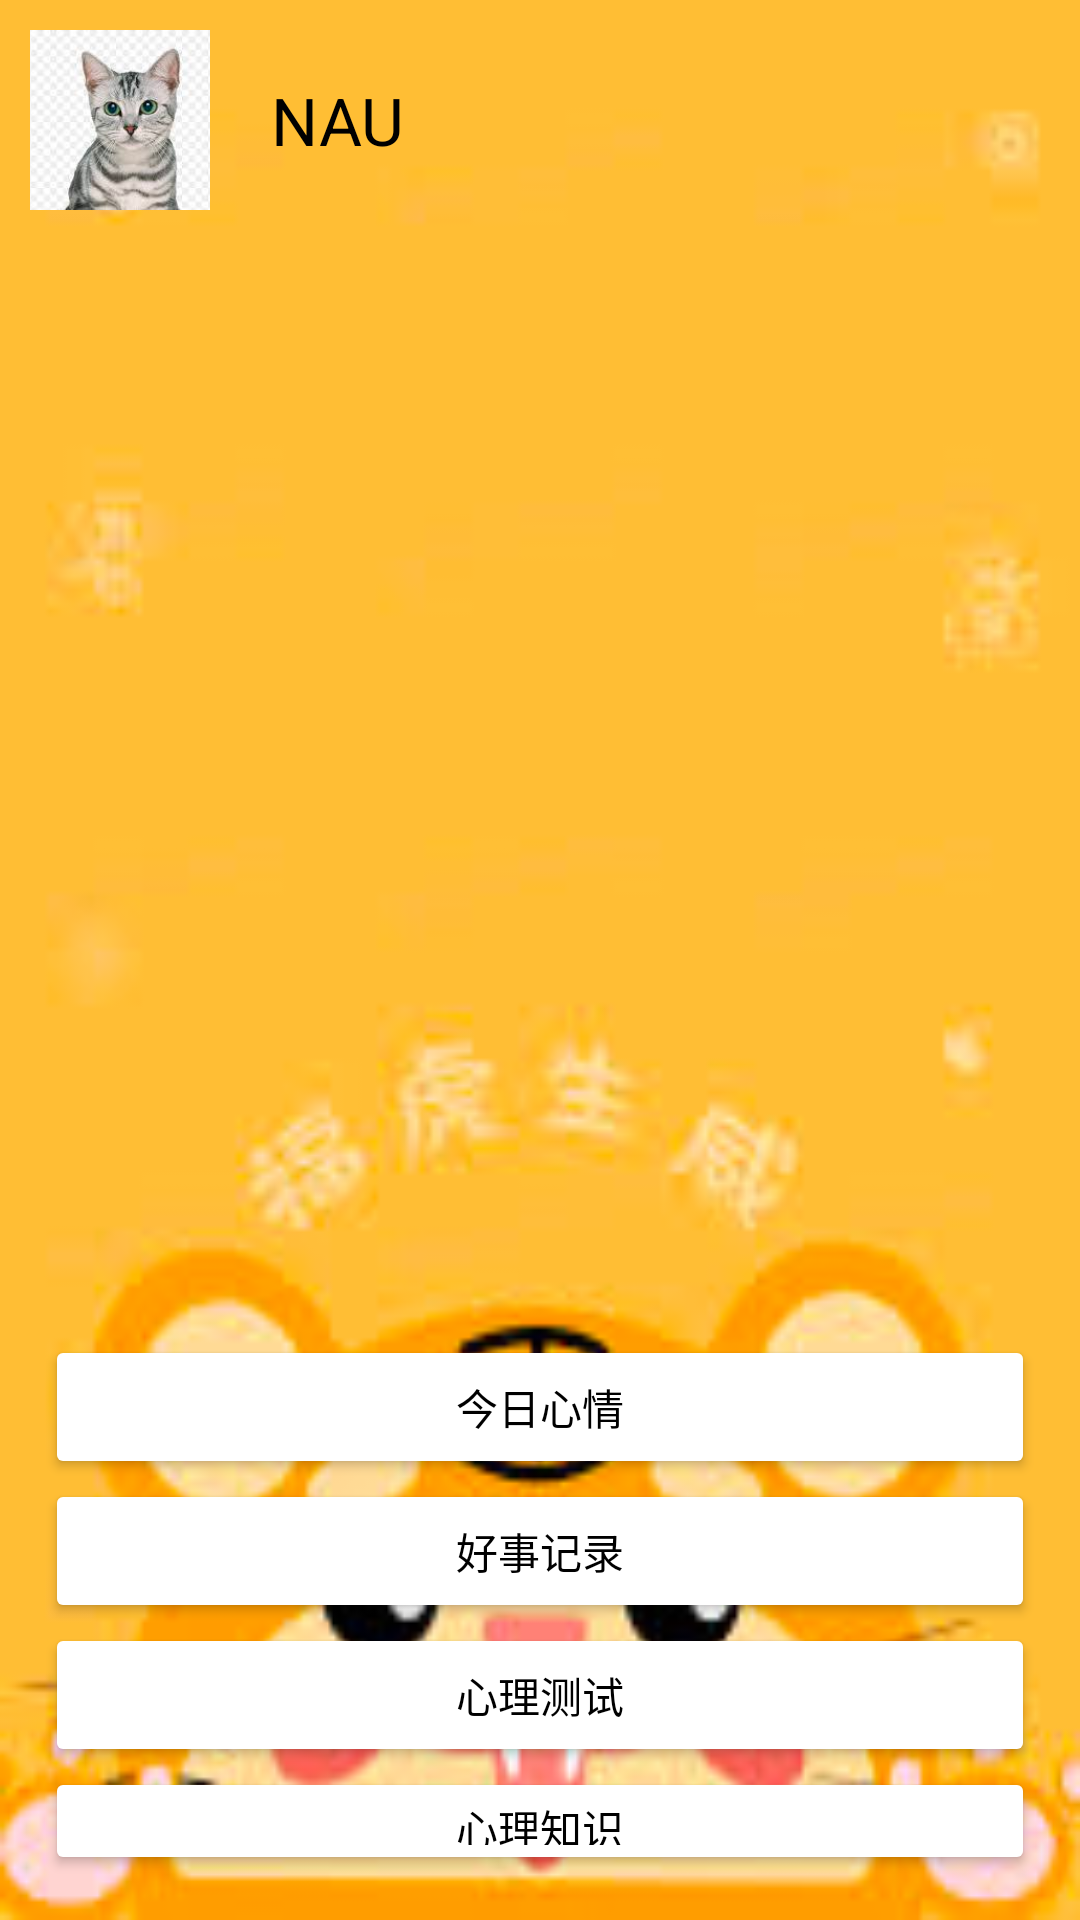

Named icons in this screenshot (1080*1920) and their centers, point (x, y):
cat: point (120, 120)
